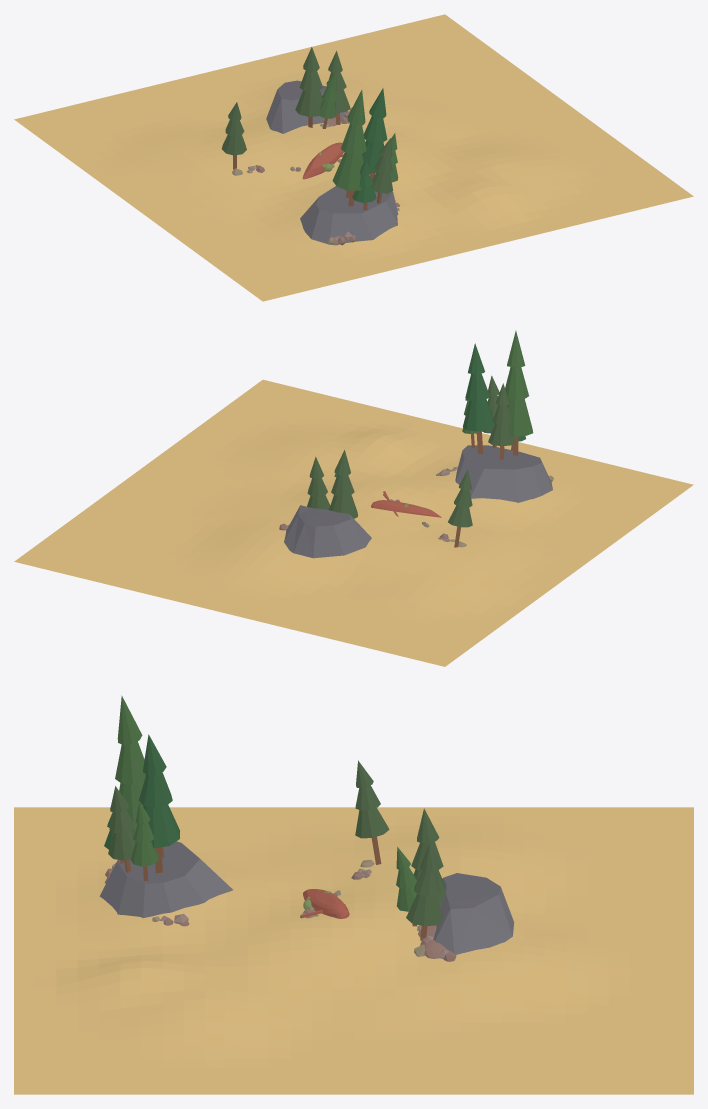
Rendered from islandtest.glb.
3 renders of one model, top to bottom at view 1: azimuth 30°, elevation 25°; view 2: azimuth 150°, elevation 25°; view 3: azimuth 270°, elevation 25°, orthographic. The views are drawn at different scales.
Visible parts, largest first — view 1: Plane.001, Cylinder, Cone.004, Cylinder.001, Cone.003, Cone, Cone.009, Cone.005, Cylinder.004, Cone.001, Cone.007, Cone.008; view 2: Plane.001, Cylinder, Cylinder.001, Cone.004, Cone.003, Cone, Cone.002, Cone.009, Cone.001, Cylinder.004; view 3: Plane.001, Cylinder, Cylinder.001, Cone.003, Cone.004, Cone.001, Cone.009, Cone.005, Cone, Cone.006, Cone.008, Cylinder.004.
Part boxes in pixels (x1,y1,x2,y2): Plane.001: (14, 14, 693, 301); Cylinder: (300, 186, 398, 245); Cone.004: (332, 90, 366, 190); Cylinder.001: (266, 80, 347, 133); Cone.003: (362, 88, 387, 173); Cone: (295, 47, 323, 116); Cone.009: (221, 102, 246, 155); Cone.005: (372, 138, 393, 193); Cylinder.004: (302, 142, 343, 179); Cone.001: (326, 51, 350, 112); Cone.007: (352, 160, 376, 202); Cone.008: (319, 71, 337, 118); Plane.001: (14, 379, 693, 666); Cylinder: (455, 445, 552, 502); Cylinder.001: (284, 505, 371, 558); Cone.004: (505, 330, 533, 436); Cone.003: (463, 343, 494, 431); Cone: (328, 450, 357, 518); Cone.002: (488, 383, 515, 445); Cone.009: (448, 469, 472, 527); Cone.001: (307, 456, 330, 509); Cylinder.004: (371, 500, 441, 517); Plane.001: (14, 807, 693, 1094); Cylinder: (99, 841, 232, 918); Cylinder.001: (433, 873, 514, 954); Cone.003: (138, 734, 179, 848); Cone.004: (115, 695, 145, 833); Cone.001: (406, 842, 442, 926); Cone.009: (355, 760, 389, 838); Cone.005: (108, 786, 135, 860); Cone: (411, 808, 445, 903); Cone.006: (130, 801, 158, 866); Cone.008: (396, 847, 416, 911); Cylinder.004: (303, 889, 349, 918).
Size of the model in its own units: 7.47 by 2.56 by 7.47.
